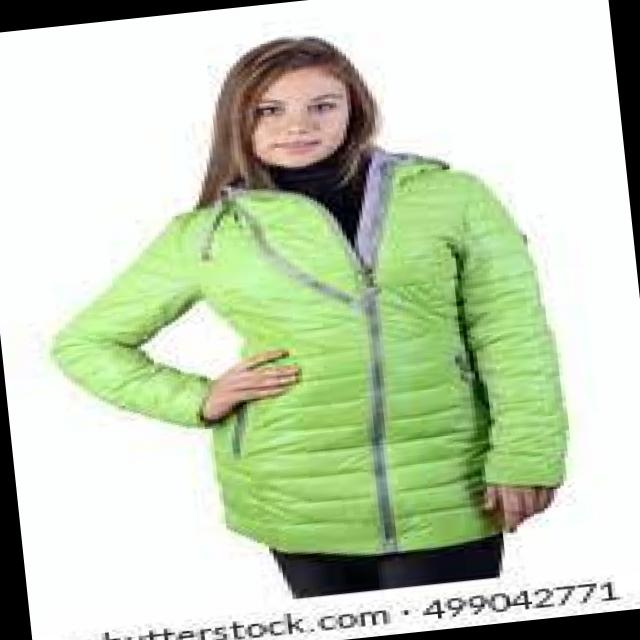Jacket: (27, 132, 586, 582)
